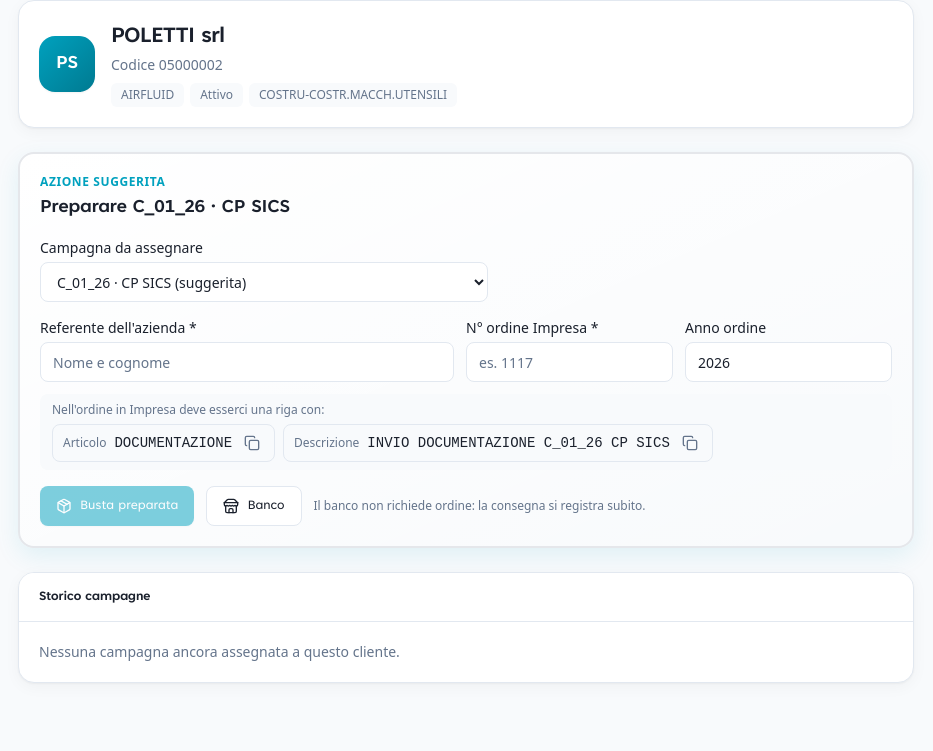
it: scheda cliente › mostra all'operatrice il messaggio del server quando l'ordine è già usato
Step 1. Type "Mario Rossi" into the field with placeholder "Nome e cognome" → (247, 362), box [40,342,454,382]
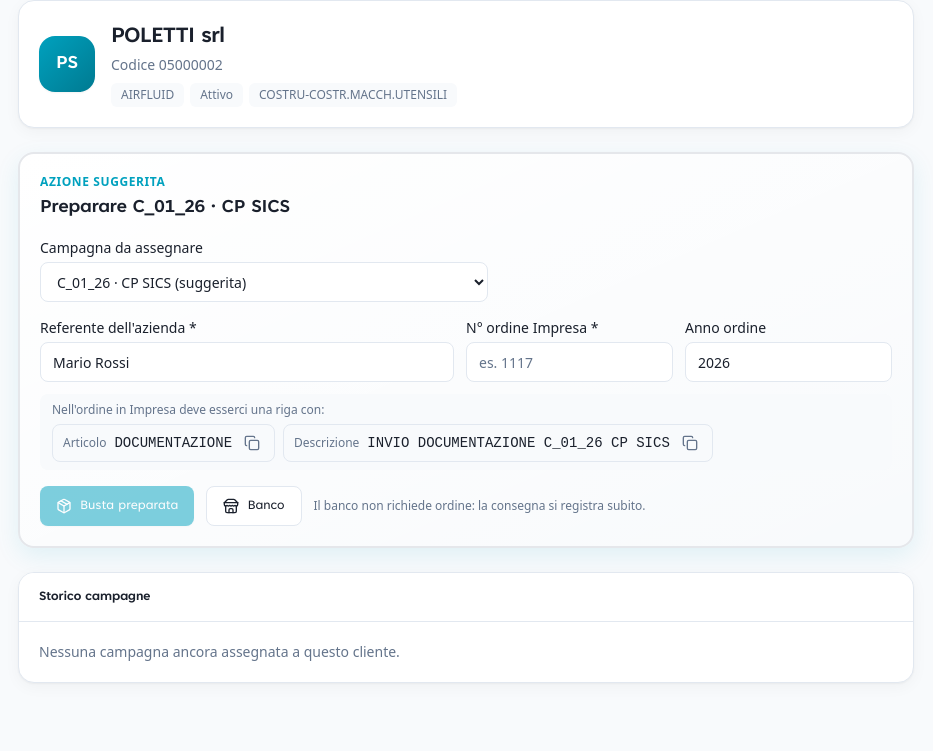
Step 2. Type "1117" into the field with placeholder "es. 1117" → (570, 362), box [466,342,673,382]
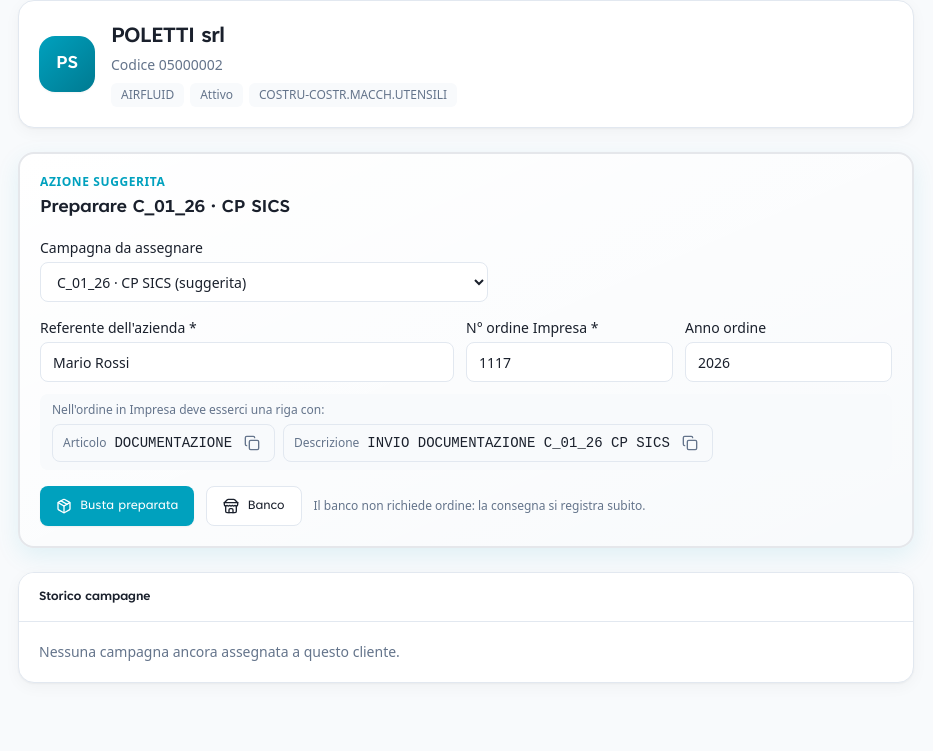
Step 3. Click the button "Busta preparata" → (117, 506), box [40,486,194,526]
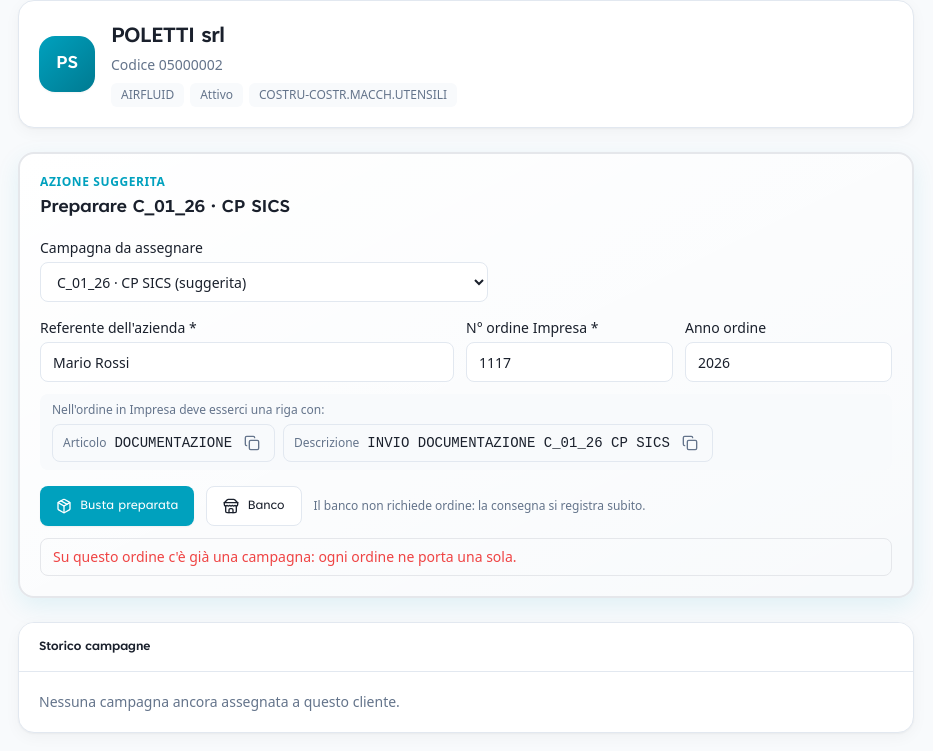
Check: the message shows "ogni ordine ne porta una sola", box [53,547,516,566]
